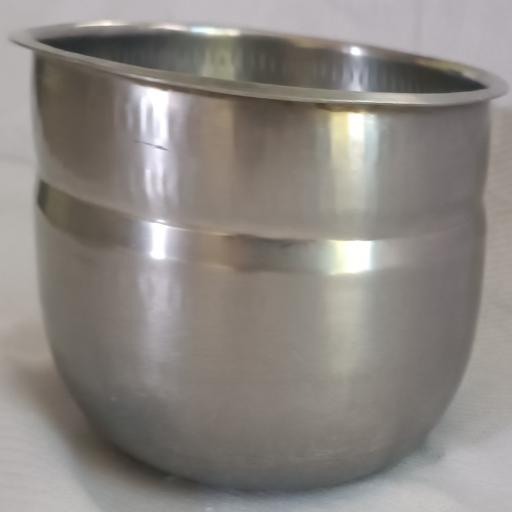vessel: (14, 22, 505, 489)
